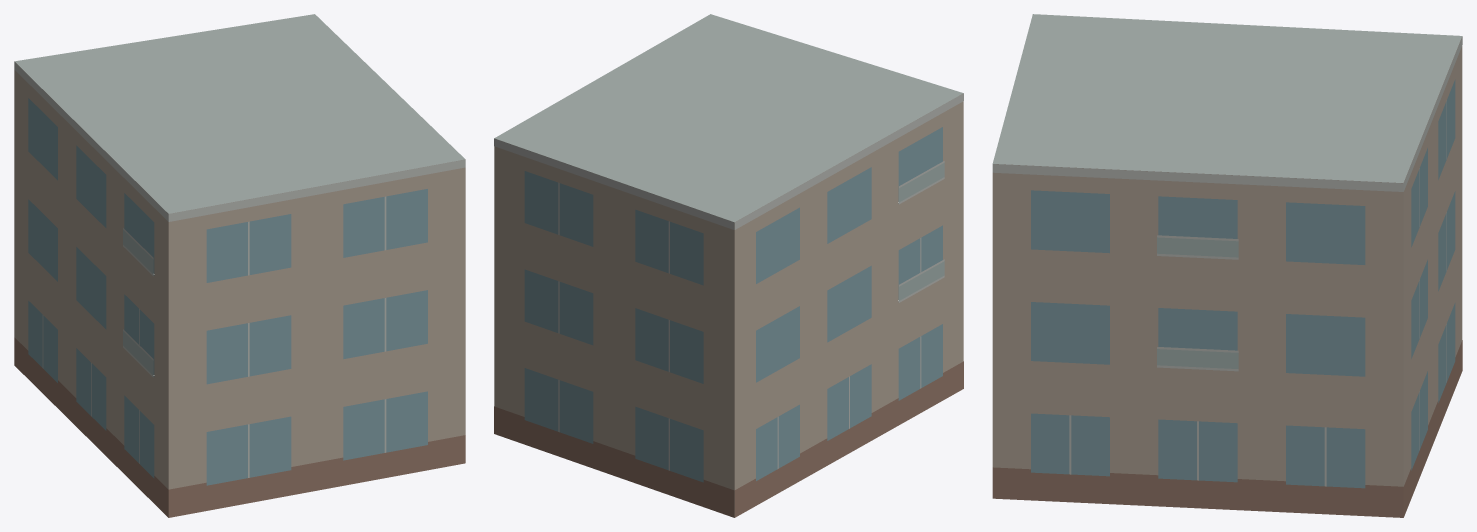
The model's file is survey-upis-33030887.glb.
The picture shows the model from 3 angles, left to right: view 1: azimuth 30°, elevation 25°; view 2: azimuth 150°, elevation 25°; view 3: azimuth 270°, elevation 25°; orthographic projection. The views are drawn at different scales.
Visible parts, largest first — view 1: survey-upis-33030887.tmp; view 2: survey-upis-33030887.tmp; view 3: survey-upis-33030887.tmp.
Part boxes in pixels (x1,y1,x2,y2): survey-upis-33030887.tmp: (14,14,465,517); survey-upis-33030887.tmp: (494,14,963,517); survey-upis-33030887.tmp: (992,14,1462,517).
Bounding box in the file's own units: 9.92 × 9.15 × 11.65.
